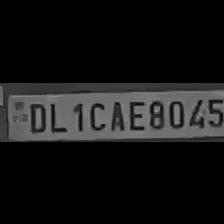0: (166, 96, 184, 128)
1: (68, 98, 86, 132)
4: (186, 96, 204, 128)
5: (204, 94, 222, 128)
8: (146, 96, 166, 130)
A: (106, 97, 126, 131)
C: (85, 97, 107, 131)
D: (24, 100, 46, 132)
E: (125, 97, 145, 130)
L: (46, 98, 66, 132)
